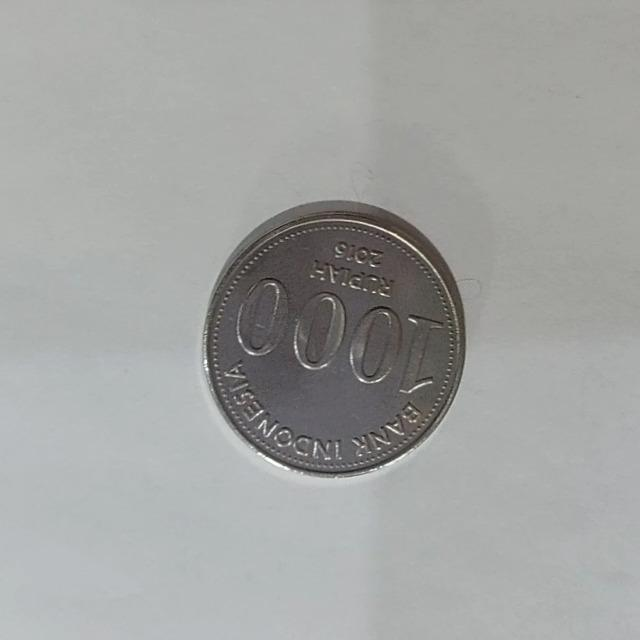Rp100: (200, 198, 468, 480)
